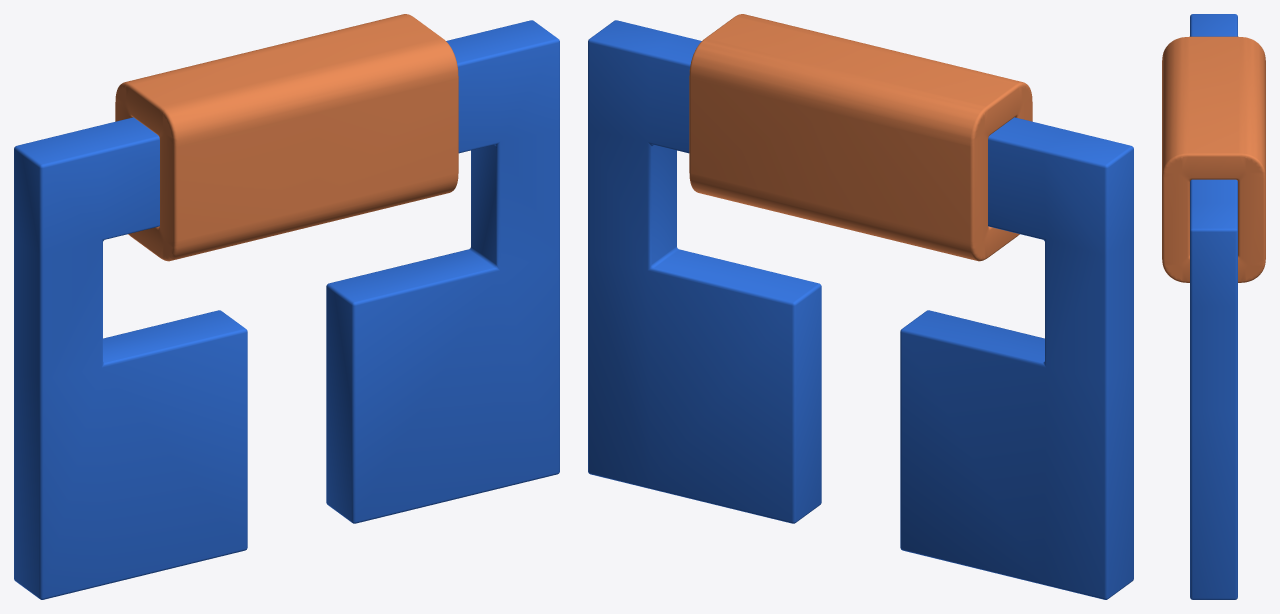
File: VerticalCorrector.glb
3 views of the same model, side by side, from view 1: azimuth 30°, elevation 25°; view 2: azimuth 150°, elevation 25°; view 3: azimuth 270°, elevation 25° (orthographic). The views are drawn at different scales.
Parts seen in each view (by area): view 1: Complete steerer printable; view 2: Complete steerer printable; view 3: Complete steerer printable.
Boxes of the visible parts, <box> form: Complete steerer printable: <box>14,14,559,599</box>; Complete steerer printable: <box>588,14,1133,599</box>; Complete steerer printable: <box>1162,14,1265,599</box>.
Bounding box in the file's own units: 1.85 × 1.59 × 0.3758.
